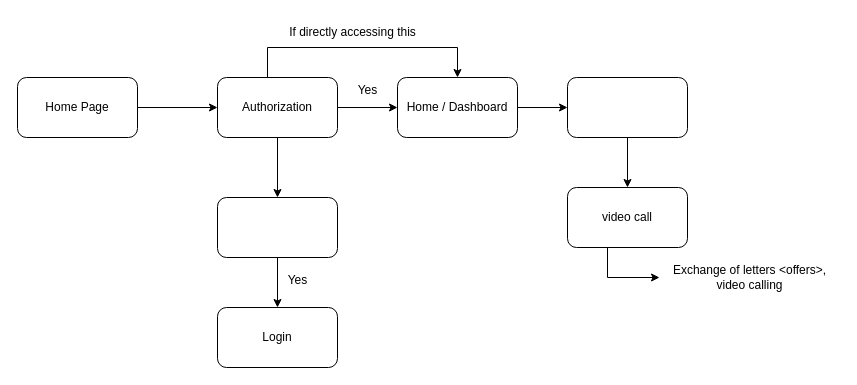
Image size: 857x385. Some labels were removed from this diagram. Each missing label, with the box of its shape:
check auth token, if it is logged in: (216, 196, 338, 258)
meeting homepage: (566, 76, 688, 138)
